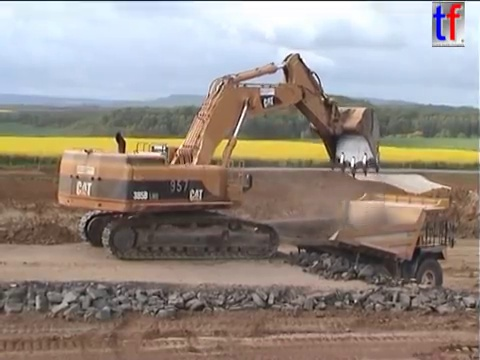excavator: (54, 50, 383, 263)
truck: (247, 190, 457, 307)
